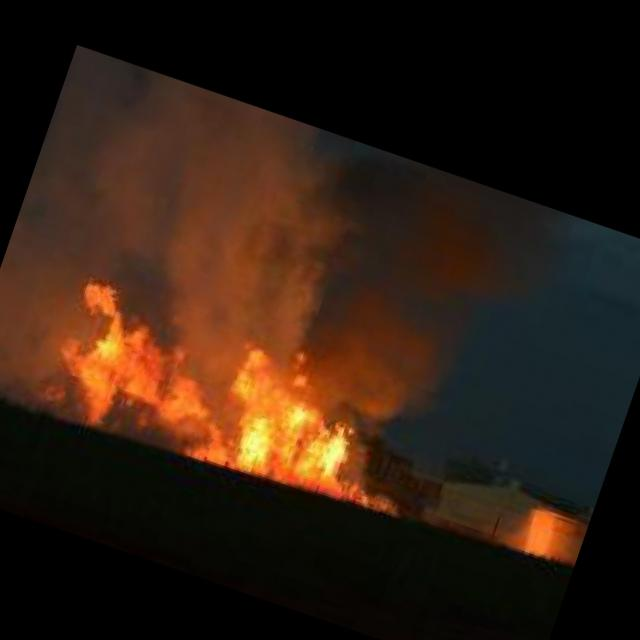fire: (37, 267, 430, 525)
smoke: (125, 111, 513, 443)
